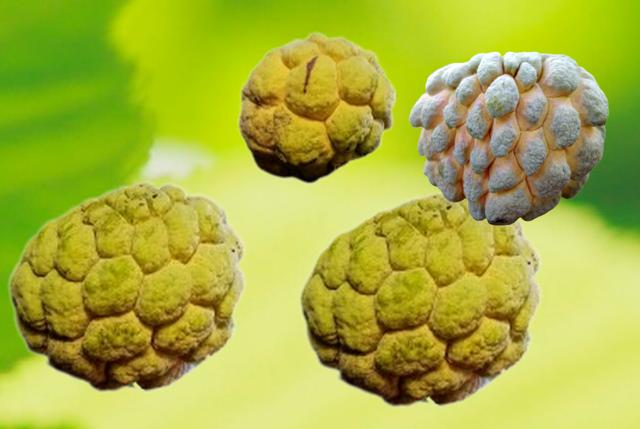atis: (297, 191, 542, 407), (6, 180, 246, 392), (409, 51, 607, 224), (236, 31, 396, 183)
